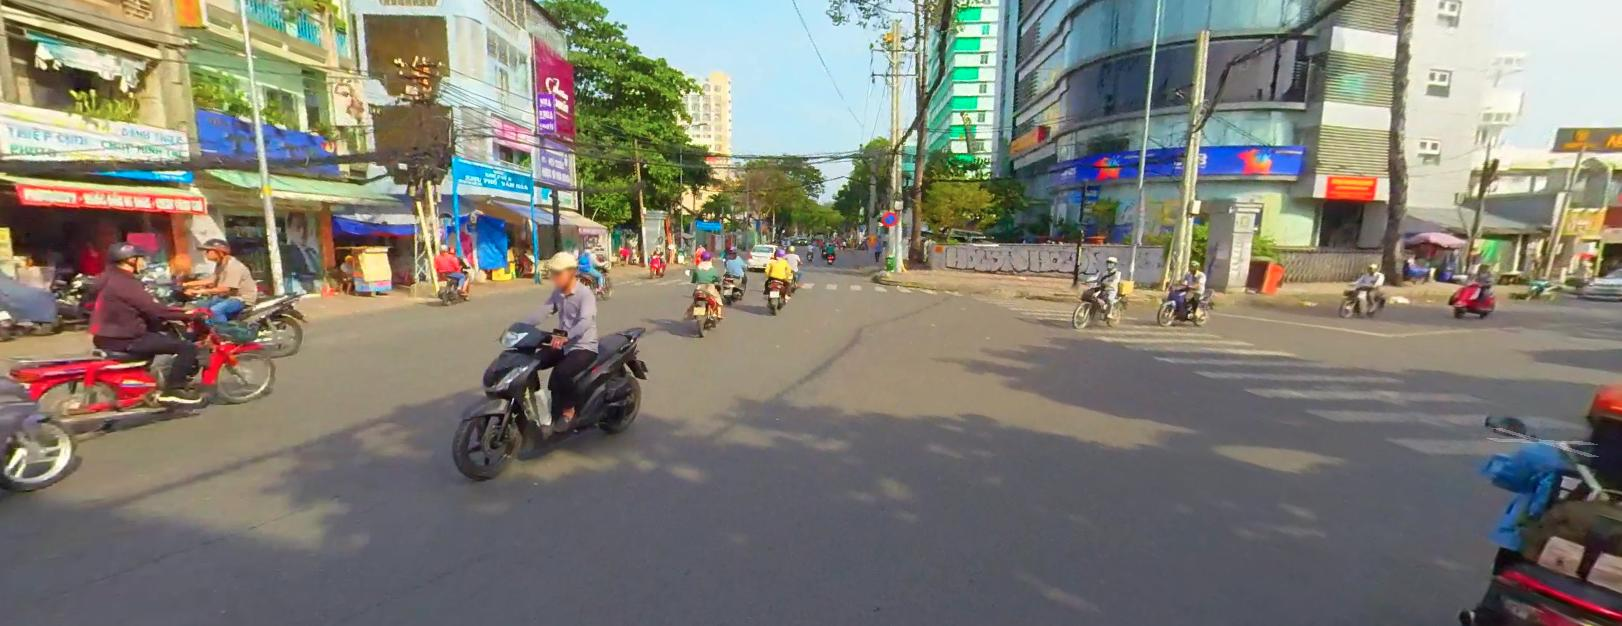Cam dung va do: (881, 210, 896, 225), (883, 211, 896, 225)
